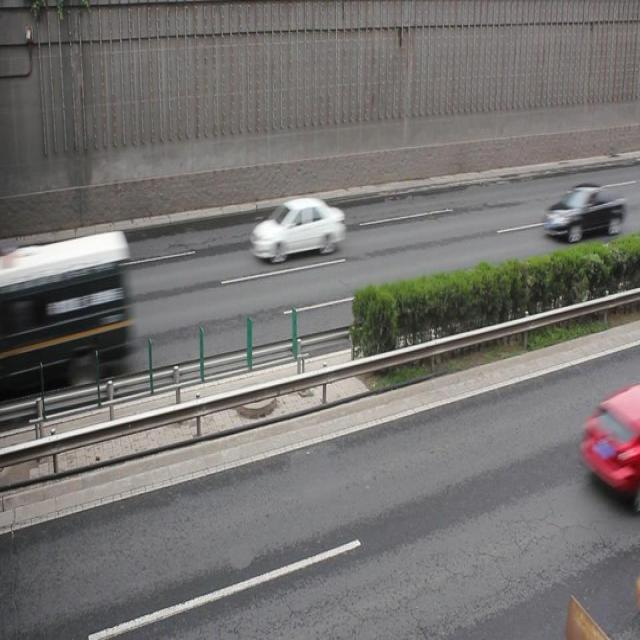car: (251, 196, 343, 264), (580, 394, 640, 494), (540, 182, 618, 241)
truck: (10, 232, 128, 380)
